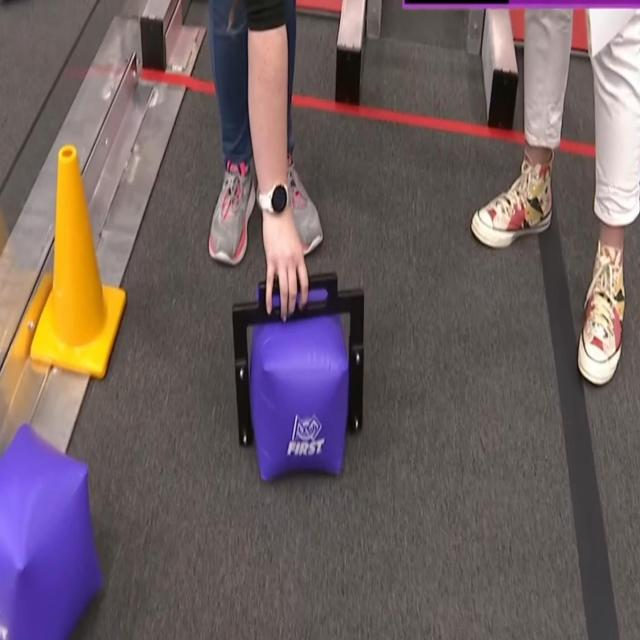frc_cone: (28, 146, 126, 388)
frc_cube: (0, 419, 104, 640), (249, 290, 348, 481)
